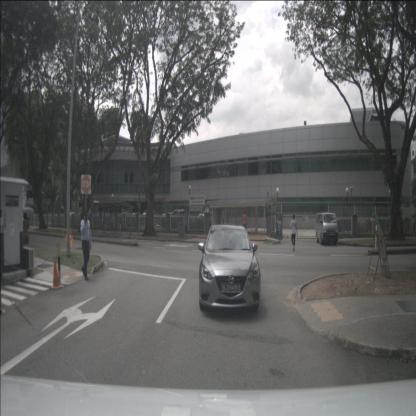human-pedestrian-adult: (79, 209, 92, 282), (21, 206, 35, 256), (290, 213, 298, 254), (242, 210, 248, 228)
movable_object-trafficcone: (50, 259, 62, 289)
vehicle-car: (198, 224, 262, 315), (315, 212, 339, 246), (198, 212, 216, 232), (172, 209, 186, 232), (130, 212, 140, 226), (141, 212, 150, 226), (161, 213, 170, 226)
